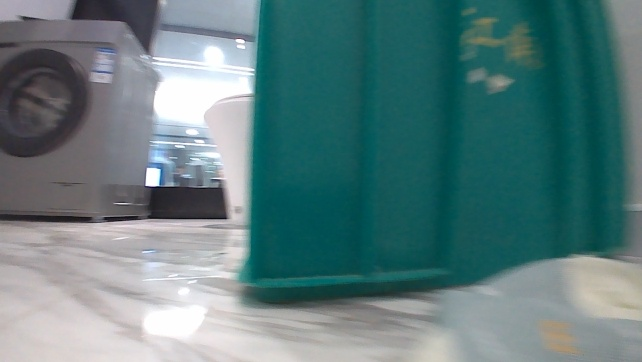toilet: (202, 91, 251, 226)
washing_machine: (0, 14, 166, 225)
